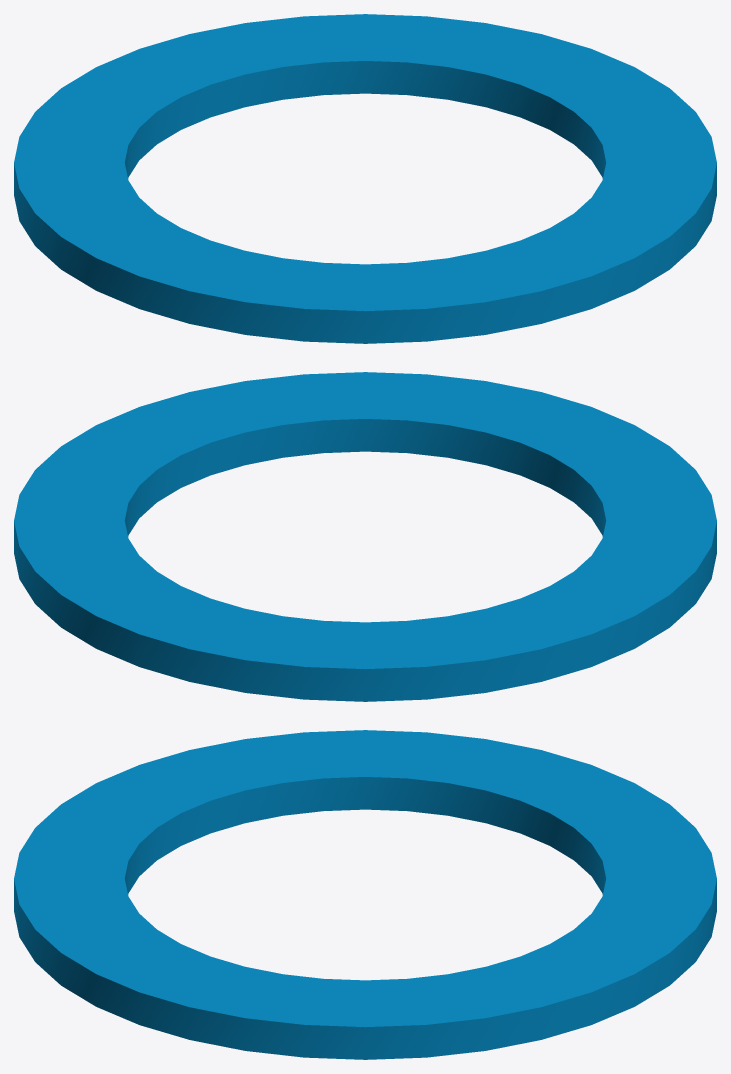
File: reticle.fbx
3 views of the same model, one above another, from view 1: azimuth 30°, elevation 25°; view 2: azimuth 150°, elevation 25°; view 3: azimuth 270°, elevation 25° (orthographic).
Visible parts, largest first — view 1: Tube; view 2: Tube; view 3: Tube.
Part boxes in pixels (box(x1,y1,x2,y2)): Tube: box(14, 14, 716, 343); Tube: box(14, 372, 716, 701); Tube: box(14, 730, 716, 1059).
Bounding box in the file's own units: 292 × 15 × 292.
